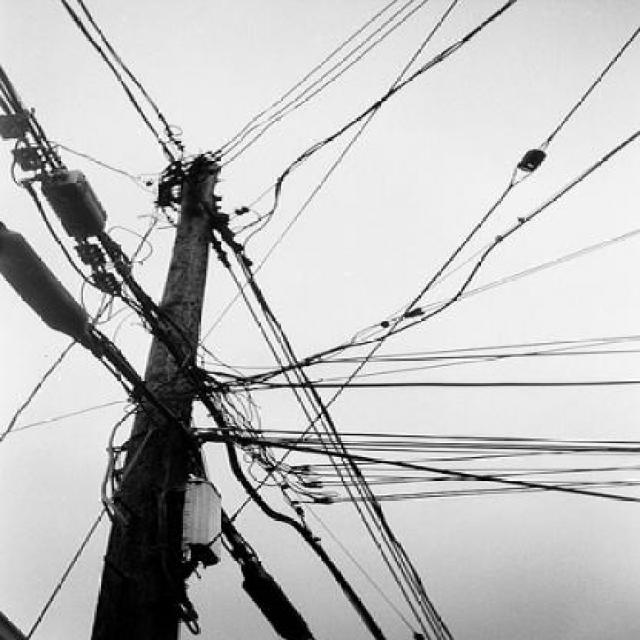pole: (0, 84, 294, 640)
